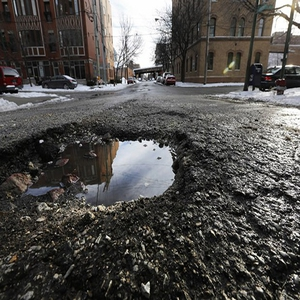pothole: (1, 118, 208, 242)
